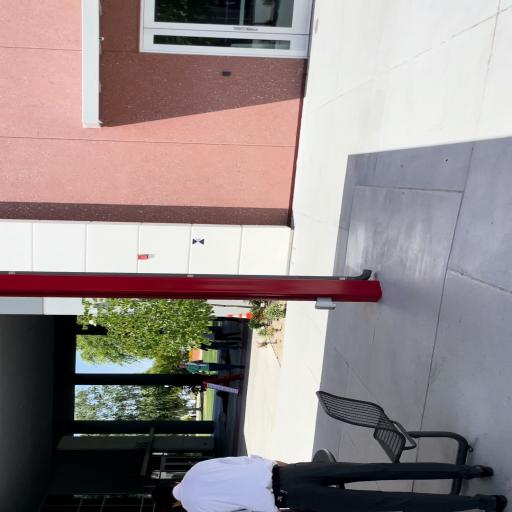target6: (192, 238, 206, 245)
